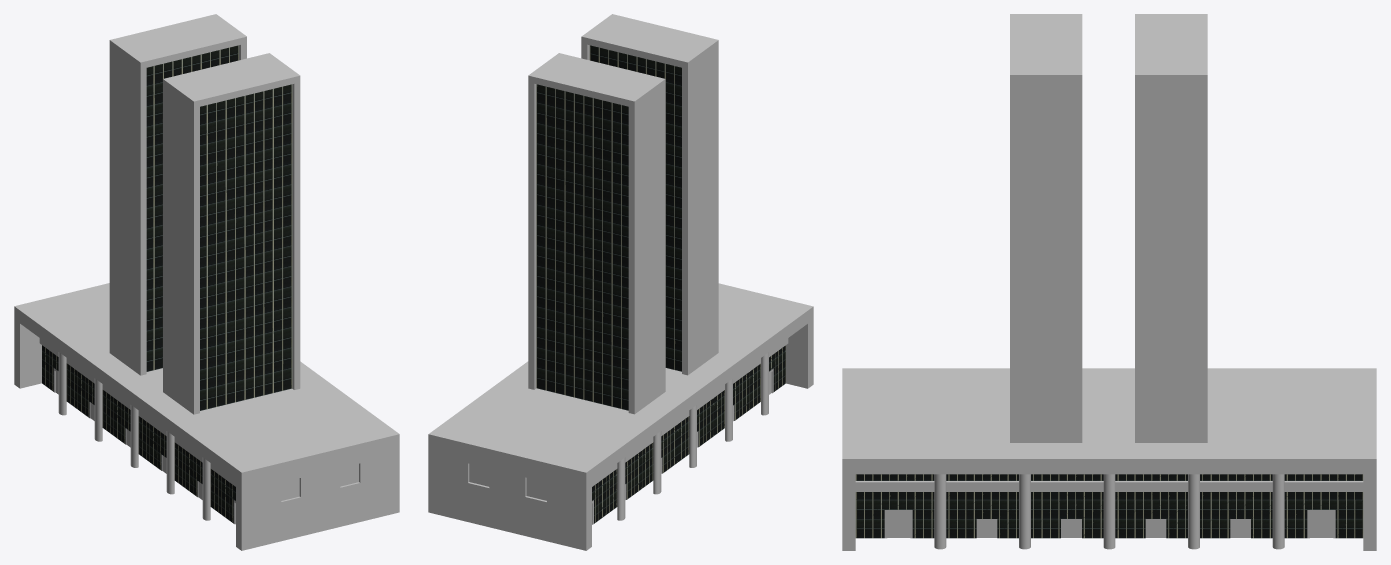
The picture shows the model from 3 angles, left to right: view 1: azimuth 30°, elevation 25°; view 2: azimuth 150°, elevation 25°; view 3: azimuth 270°, elevation 25°; orthographic projection. The views are drawn at different scales.
Parts seen in each view (by area): view 1: BC-P09; view 2: BC-P09; view 3: BC-P09.
Boxes of the visible parts, x1,y1,x2,y2 form: BC-P09: [14, 14, 399, 550]; BC-P09: [428, 14, 813, 550]; BC-P09: [842, 14, 1376, 550].
Size of what is drawn, in the model's own units: 25.36 by 60 by 63.19.
